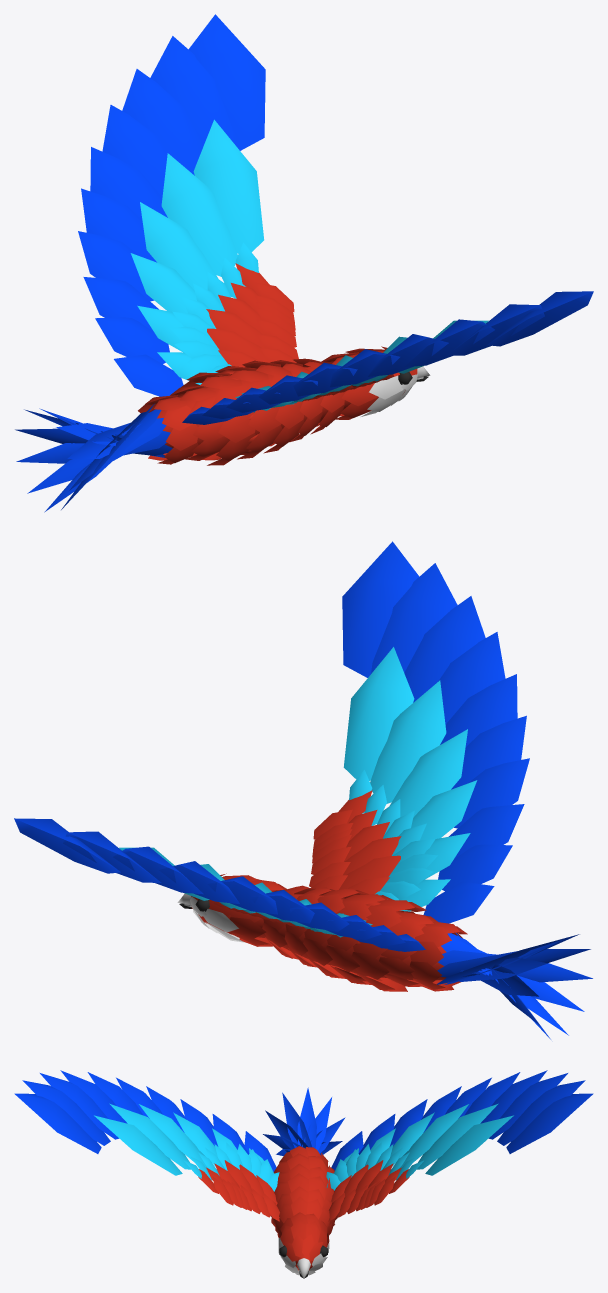
The model's file is parrot.obj.
The picture shows the model from 3 angles, top to bottom: view 1: azimuth 30°, elevation 25°; view 2: azimuth 150°, elevation 25°; view 3: azimuth 270°, elevation 25°; orthographic projection. The views are drawn at different scales.
Visible parts, largest first — view 1: Parrot.3; view 2: Parrot.3; view 3: Parrot.3.
Part boxes in pixels (box(x1,y1,x2,y2)): Parrot.3: box(15, 14, 593, 512); Parrot.3: box(14, 541, 592, 1039); Parrot.3: box(14, 1070, 593, 1278).
Bounding box in the file's own units: 220 × 146 × 371.
